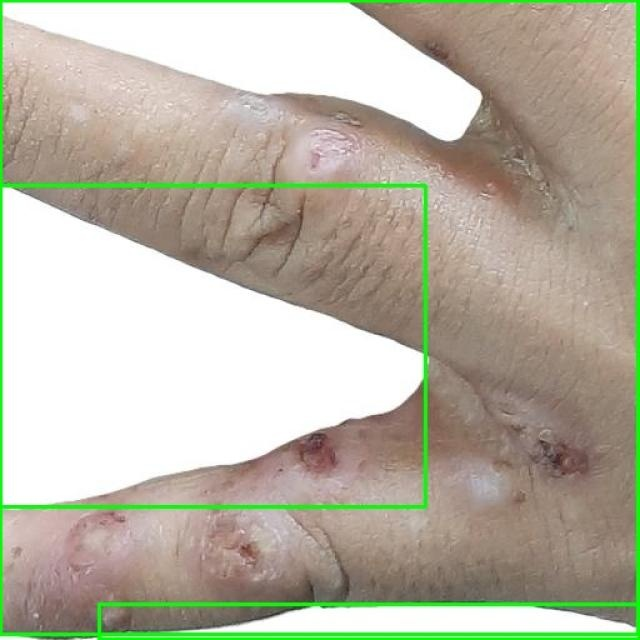Scabies: (0, 0, 639, 635), (0, 185, 425, 506), (99, 604, 639, 639)
